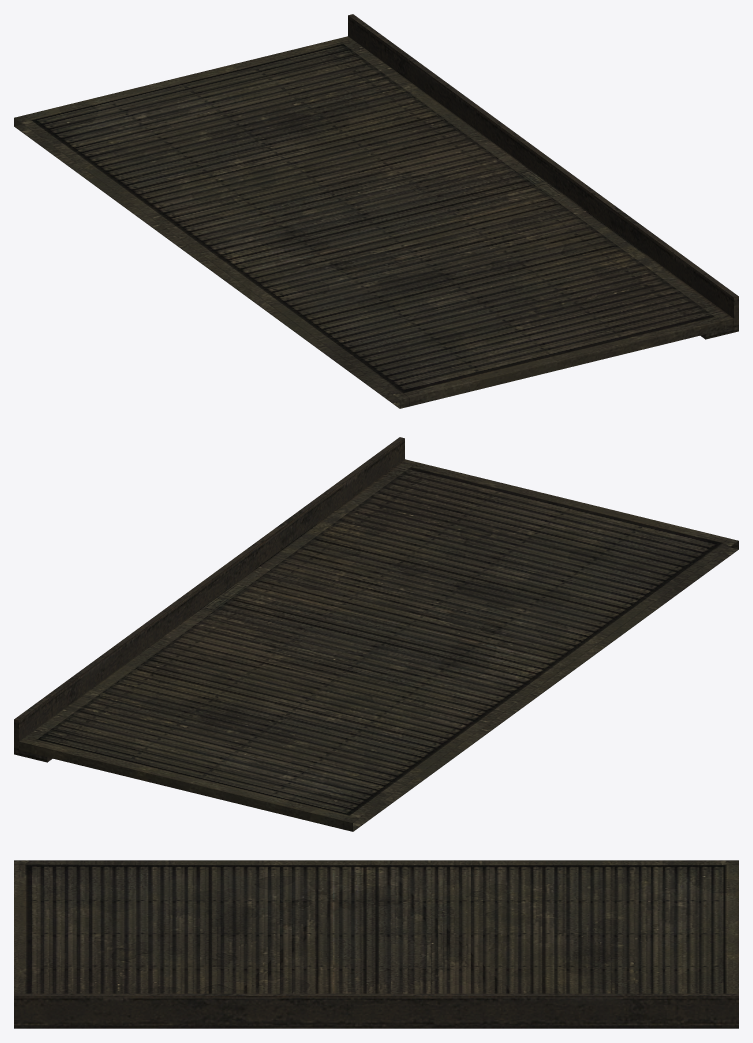
Rendered from platform_cx_1.fbx.
3 views of the same model, one above another, from view 1: azimuth 30°, elevation 25°; view 2: azimuth 150°, elevation 25°; view 3: azimuth 270°, elevation 25° (orthographic). The views are drawn at different scales.
Parts seen in each view (by area): view 1: platform_cx_1; view 2: platform_cx_1; view 3: platform_cx_1.
Part boxes in pixels (<box>): platform_cx_1: <box>14,14,738,408</box>; platform_cx_1: <box>14,437,738,831</box>; platform_cx_1: <box>14,860,738,1028</box>.
Size of the model in its own units: 2.03 by 4 by 0.2.
